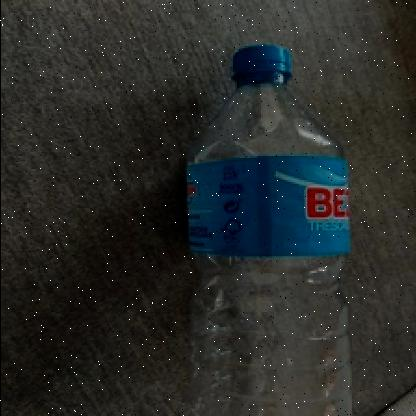Plastic Bottle: (182, 44, 352, 414), (185, 154, 351, 258)
